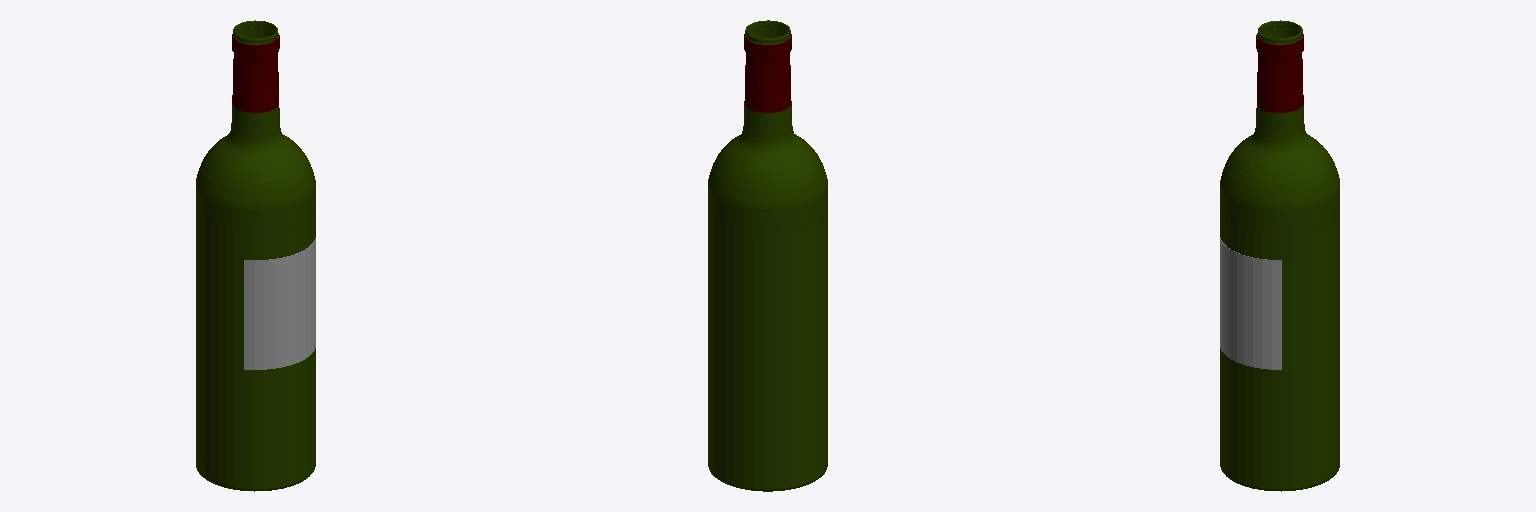
The robot description file, URDF, robot "wineBouteille_1":
<robot
  name="wineBouteille_1">
  <link name="wineBouteille_1">
    <inertial>
      <origin xyz="0.0 0.0 0.0" rpy="0 0 0"/>
      <mass value="1.0"/>
      <inertia ixx="1" ixy="0.0" ixz="0.0" iyy="1" iyz="0.0" izz="1" />
    </inertial>

    <visual>
      <geometry>
        <mesh filename="../meshes/dae/wineBouteille_1.dae" scale="1 1 1" />
      </geometry>
     </visual>

    <collision>
      <geometry>
        <mesh filename="../meshes/dae/wineBouteille_1.dae" scale="1 1 1" />
      </geometry>
    </collision>

  </link>
</robot>

--- What the picture shows (computed from the rendered views, not written in the file) ---
Views: 3 orthographic renders of the robot side by side, from view 1: azimuth 30°, elevation 25°; view 2: azimuth 150°, elevation 25°; view 3: azimuth 270°, elevation 25°.
Model wineBouteille_1 with 1 links and 0 joints (none), rooted at wineBouteille_1, posed all joints at 0.
Visible links, largest first — view 1: wineBouteille_1; view 2: wineBouteille_1; view 3: wineBouteille_1.
Boxes of the visible links, x1,y1,x2,y2 form: wineBouteille_1: (196, 20, 315, 491); wineBouteille_1: (708, 20, 827, 491); wineBouteille_1: (1220, 20, 1339, 491).
Bounding box of the posed robot: 0.0745 × 0.0745 × 0.2982 m (x, y, z).
1 mesh visuals loaded from 1 distinct referenced files (1 Collada DAE).